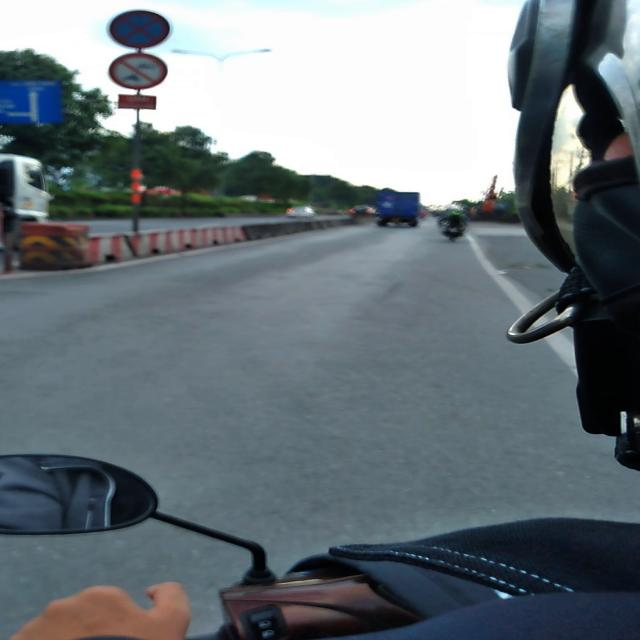Cam dung va do: (109, 10, 171, 49)
